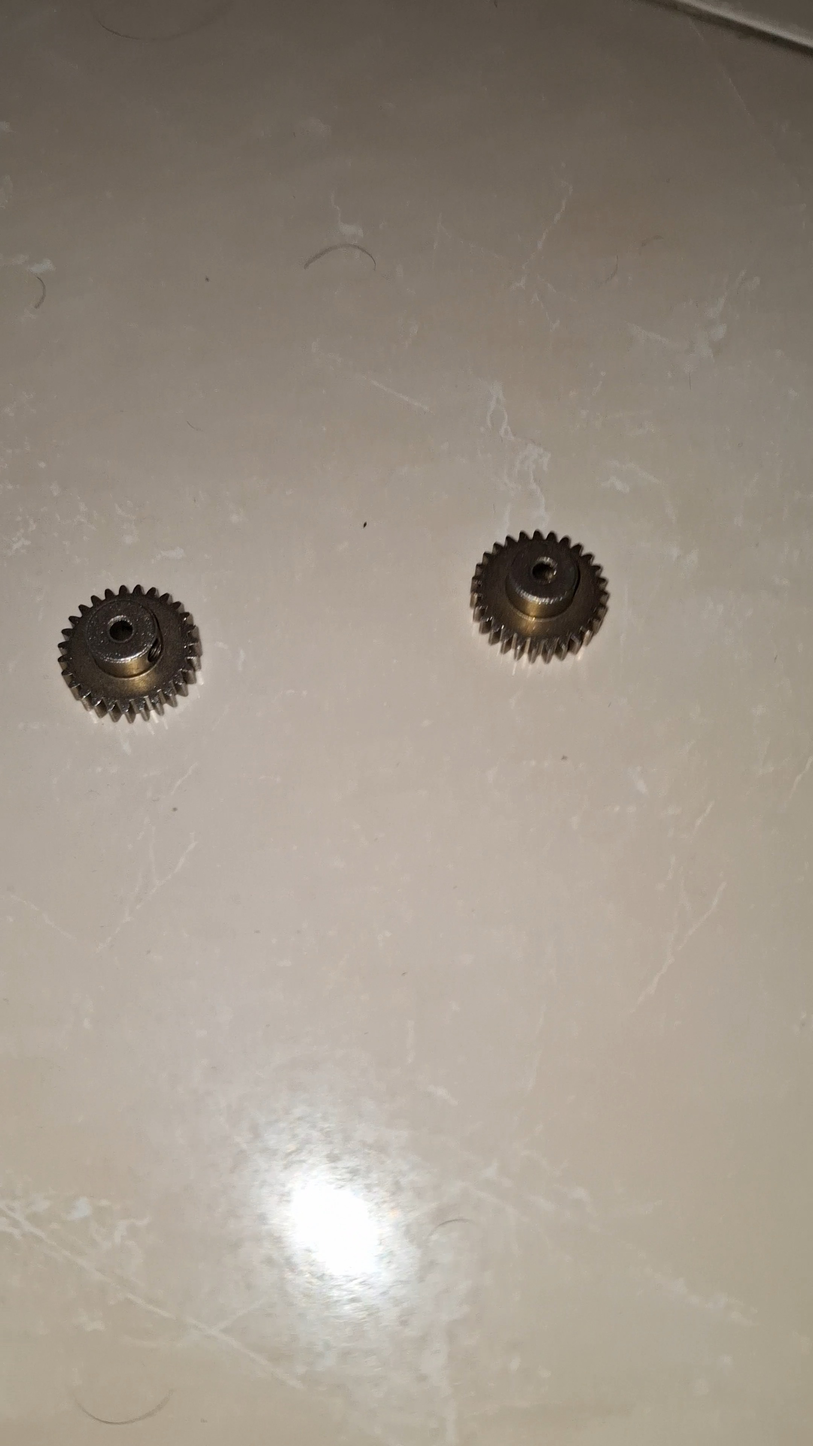spur gear: (59, 586, 200, 717), (471, 531, 608, 661)
